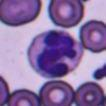N: (28, 29, 84, 78)
